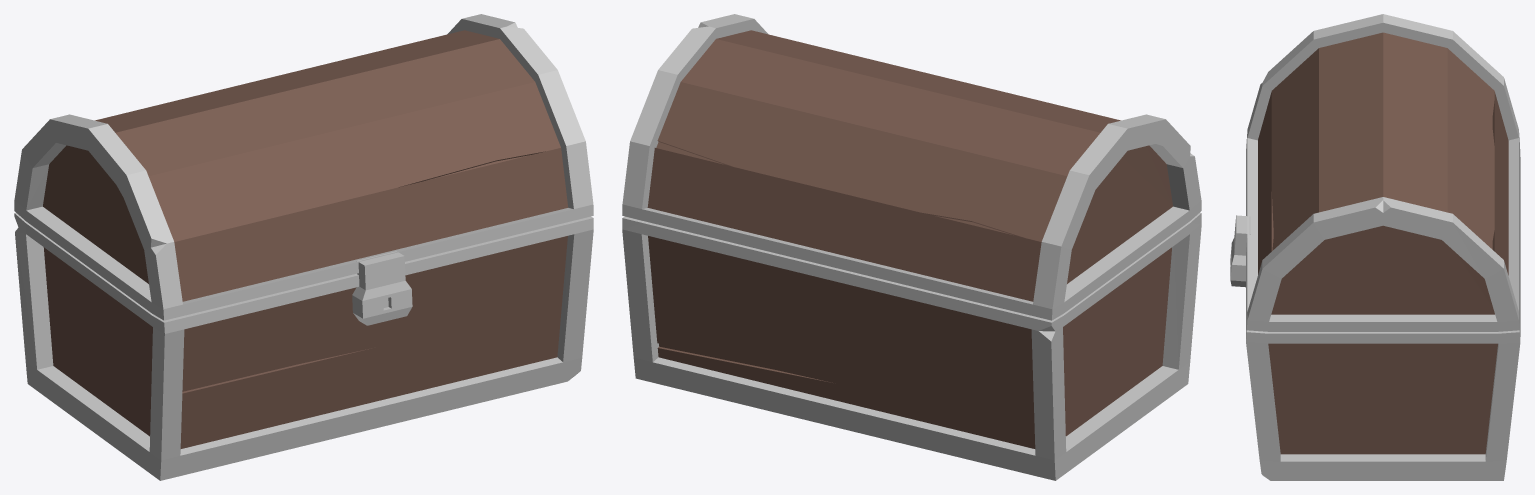
File: Chest.fbx
3 renders of one model, left to right at view 1: azimuth 30°, elevation 25°; view 2: azimuth 150°, elevation 25°; view 3: azimuth 270°, elevation 25°, orthographic. The views are drawn at different scales.
Visible parts, largest first — view 1: Chest; view 2: Chest; view 3: Chest.
Part boxes in pixels (x1,y1,x2,y2): Chest: [14, 14, 593, 480]; Chest: [622, 14, 1201, 480]; Chest: [1230, 14, 1520, 480].
Size of the model in its own units: 3.36 by 2.27 by 2.15.
